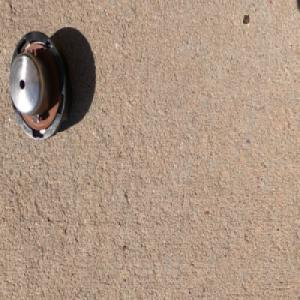FuelCap: (7, 29, 71, 145)
